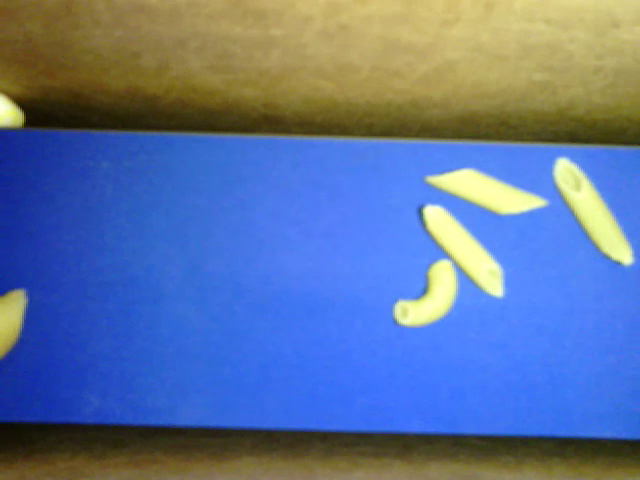elbow: (392, 258, 458, 327)
penne: (553, 156, 637, 266), (419, 203, 504, 299), (424, 166, 547, 216)
